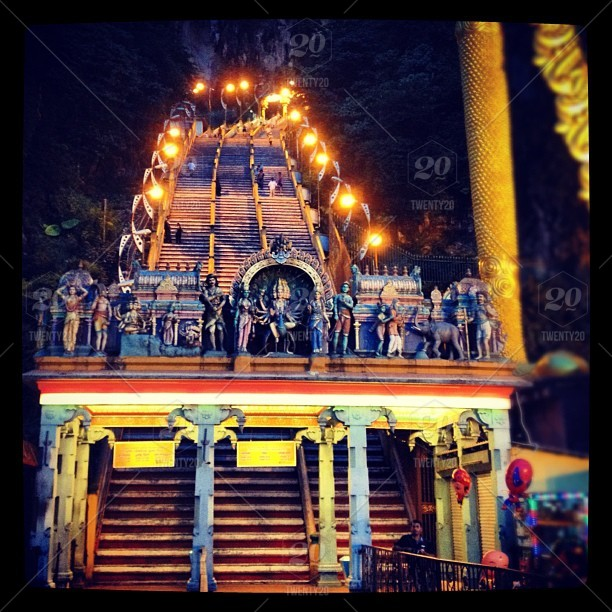Hindu Temple: (32, 251, 494, 418)
